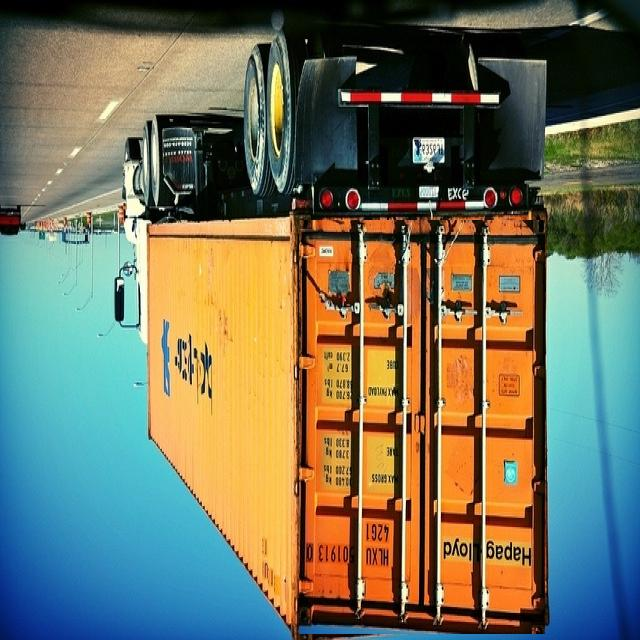container_door: (299, 220, 545, 634)
